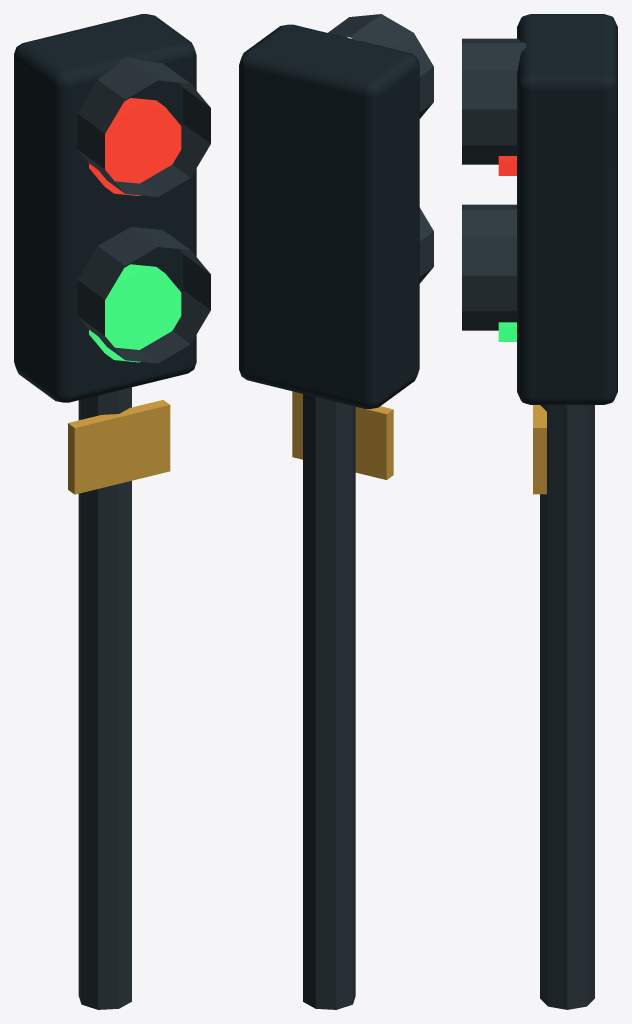
Rendered from rt_signal_lamp.glb.
The picture shows the model from 3 angles, left to right: view 1: azimuth 30°, elevation 25°; view 2: azimuth 150°, elevation 25°; view 3: azimuth 270°, elevation 25°; orthographic projection.
Parts seen in each view (by area): view 1: rt_signal_lamp_body; view 2: rt_signal_lamp_body; view 3: rt_signal_lamp_body.
Part boxes in pixels (x1,y1,x2,y2): rt_signal_lamp_body: (14, 14, 210, 1009); rt_signal_lamp_body: (239, 14, 433, 1009); rt_signal_lamp_body: (462, 14, 617, 1009).
Size of the model in its own units: 0.36 by 2.3 by 0.34.
